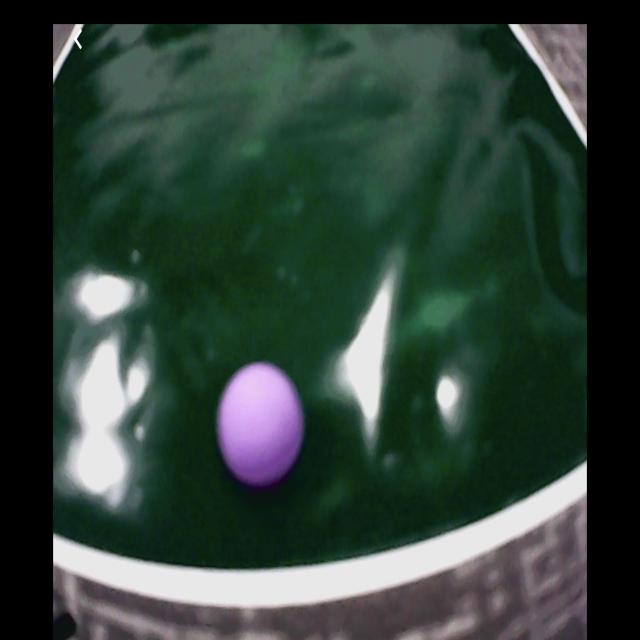ball: (216, 360, 306, 489)
